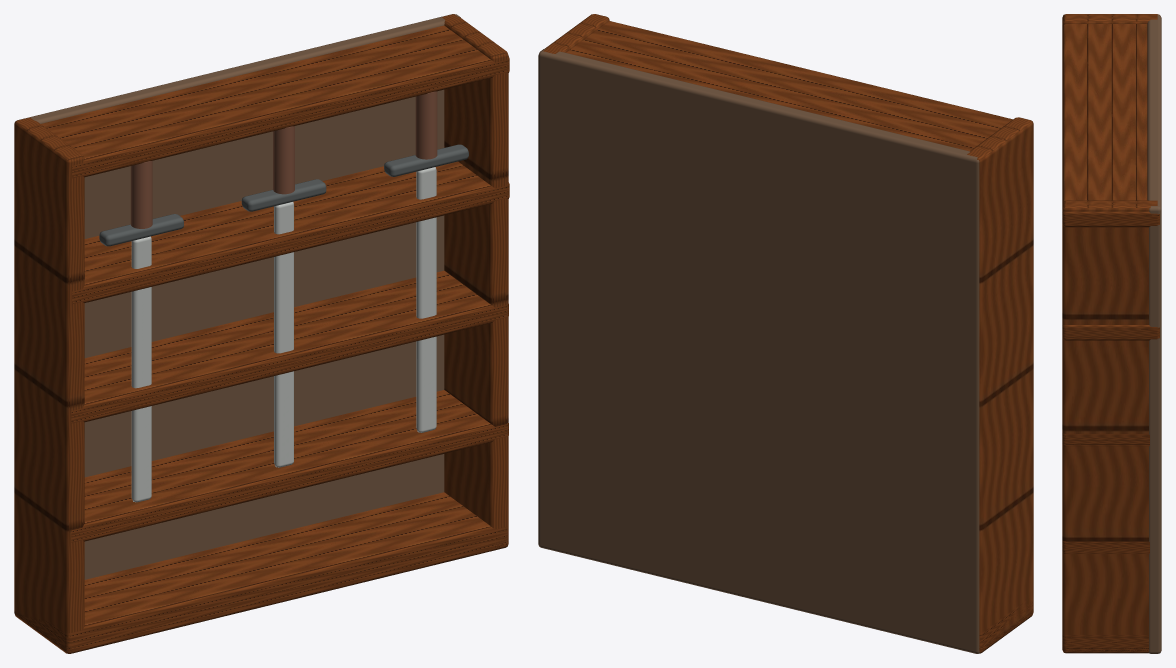
The model's file is adventurers-tavern-and-guild-hall-mounted-weapon-rack-59eb5fb8__24746.glb.
The picture shows the model from 3 angles, left to right: view 1: azimuth 30°, elevation 25°; view 2: azimuth 150°, elevation 25°; view 3: azimuth 270°, elevation 25°; orthographic projection. The views are drawn at different scales.
Visible parts, largest first — view 1: mounted-weapon-rack; view 2: mounted-weapon-rack; view 3: mounted-weapon-rack.
Part boxes in pixels (x1=…): mounted-weapon-rack: x1=14, y1=14, x2=509, y2=653; mounted-weapon-rack: x1=538, y1=14, x2=1033, y2=653; mounted-weapon-rack: x1=1062, y1=14, x2=1161, y2=653.
Size of the model in its own units: 1.4 by 1.5 by 0.3025.
Materials: 5 (1 with a texture image).
